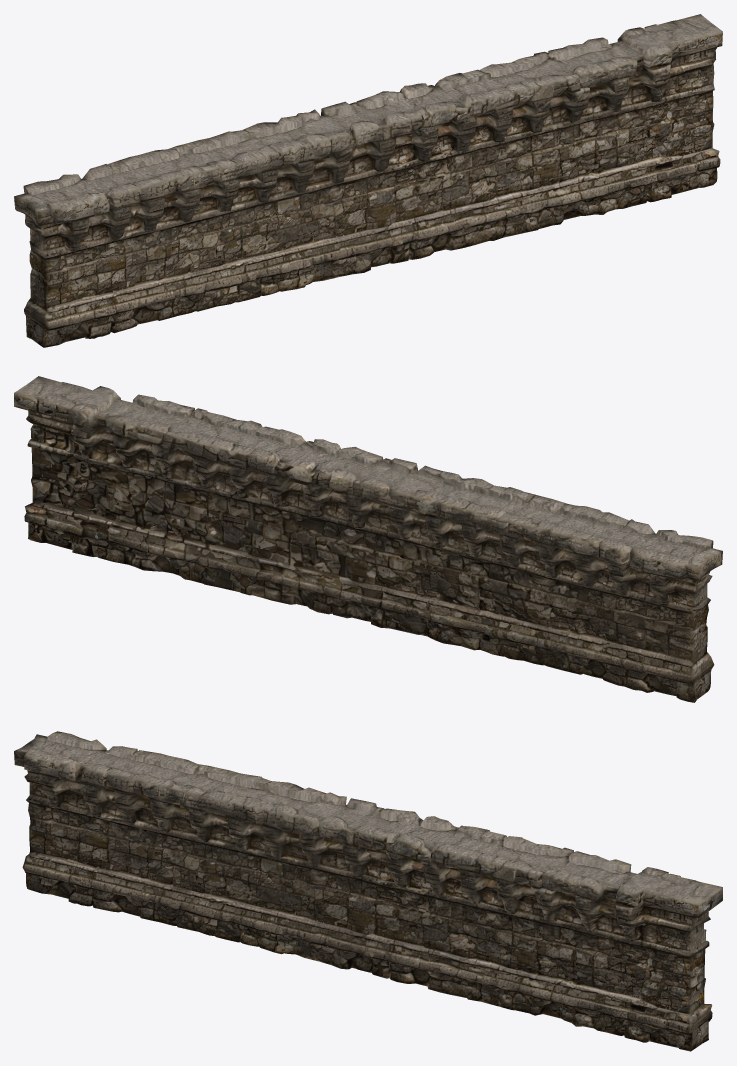
The model's file is prison_frieze.glb.
3 renders of one model, top to bottom at view 1: azimuth 30°, elevation 25°; view 2: azimuth 150°, elevation 25°; view 3: azimuth 330°, elevation 25°, orthographic.
Parts seen in each view (by area): view 1: tripo_node_1f3f6ee0-6fa3-43d3-b3b7-838e21e4b6d0; view 2: tripo_node_1f3f6ee0-6fa3-43d3-b3b7-838e21e4b6d0; view 3: tripo_node_1f3f6ee0-6fa3-43d3-b3b7-838e21e4b6d0.
Boxes of the visible parts, x1,y1,x2,y2 form: tripo_node_1f3f6ee0-6fa3-43d3-b3b7-838e21e4b6d0: (14, 14, 722, 347); tripo_node_1f3f6ee0-6fa3-43d3-b3b7-838e21e4b6d0: (14, 376, 722, 702); tripo_node_1f3f6ee0-6fa3-43d3-b3b7-838e21e4b6d0: (14, 731, 722, 1051).
Size of the model in its own units: 1 by 0.2147 by 0.0913.
1 material, 1 textured.
